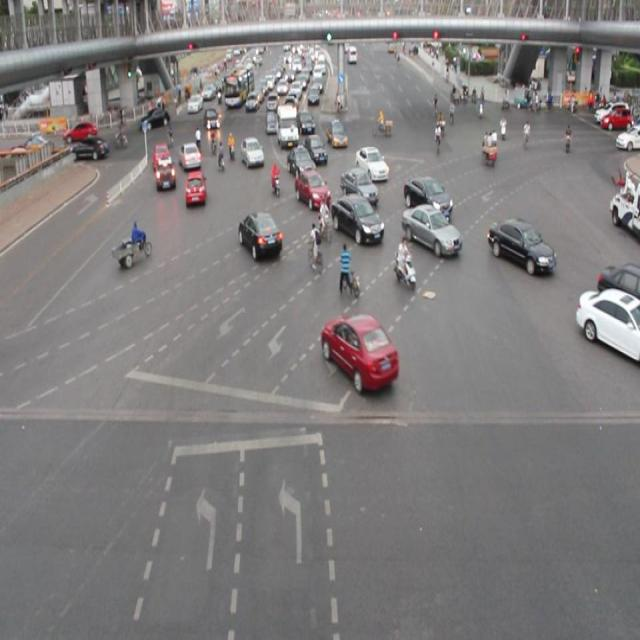car: (320, 310, 395, 389), (572, 285, 640, 361), (486, 217, 555, 278), (400, 203, 460, 257), (330, 193, 382, 244), (402, 174, 451, 221), (238, 212, 282, 259), (596, 258, 640, 301), (339, 167, 378, 209), (294, 167, 330, 210), (354, 145, 388, 181), (287, 144, 315, 180), (183, 170, 208, 208), (239, 135, 265, 170), (153, 155, 177, 192), (178, 139, 202, 174), (304, 133, 328, 166), (151, 139, 172, 174)
